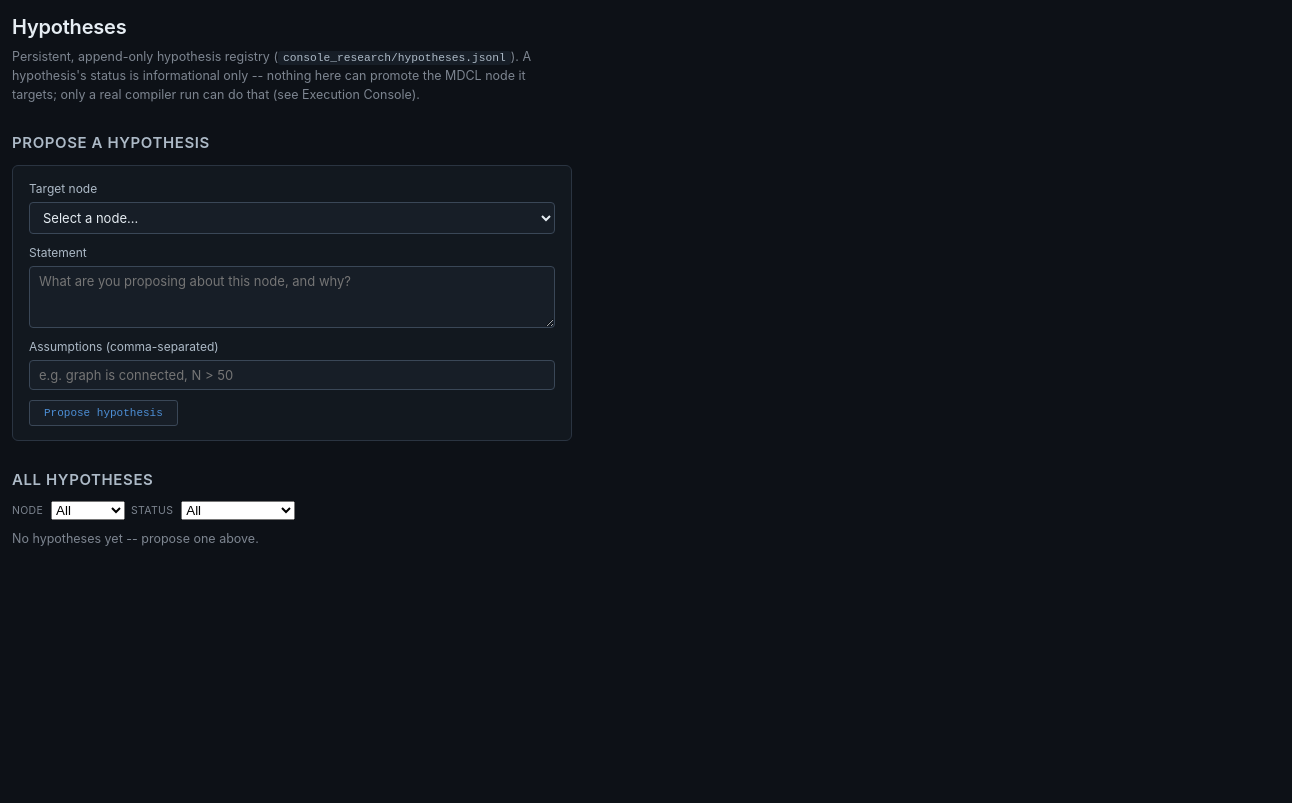
Scenario: Hypotheses screen › surfaces a possible-duplicate warning for a repeated statement on the same node
Select "NODE-A (OPEN)" in the dropdown labelled "Target node" at (292, 218), box [29,202,555,234]
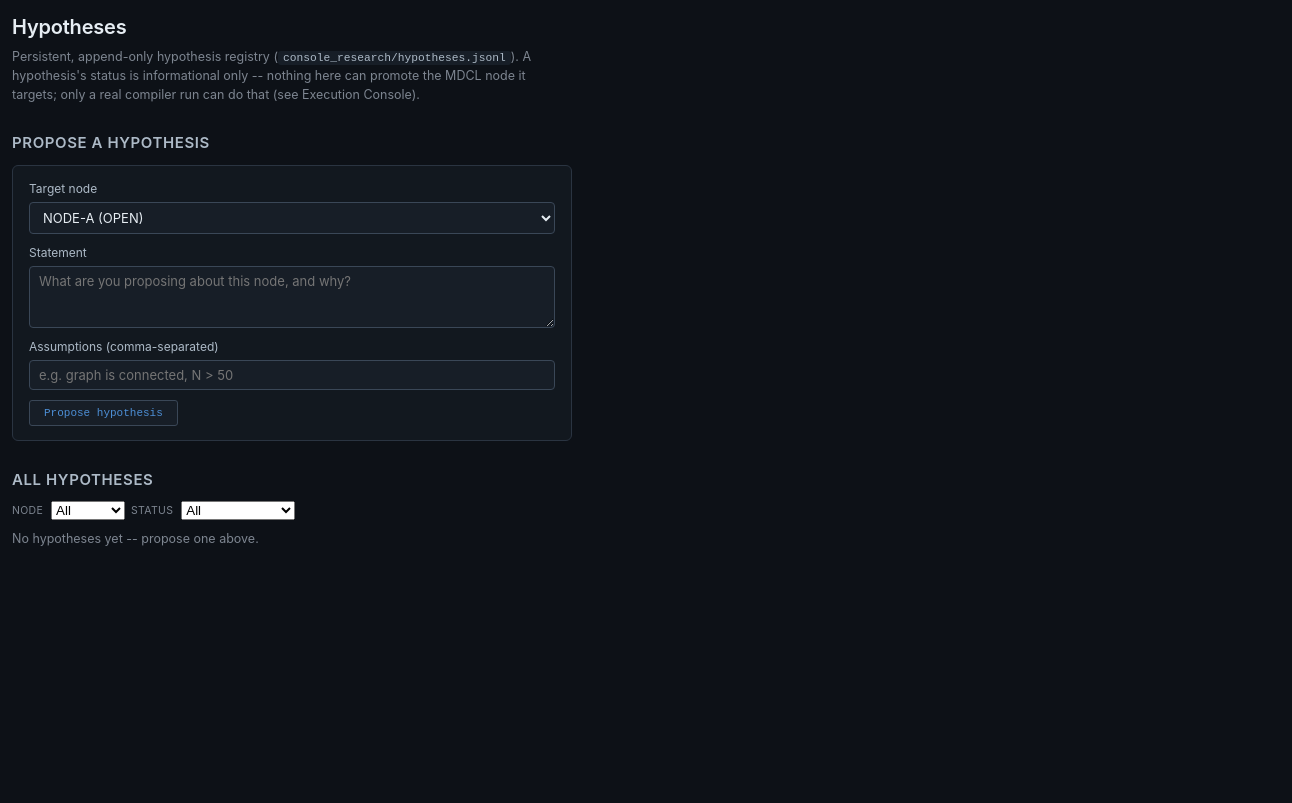
Type "the exact same statement" into the text box labelled "Statement" at (292, 297), box [29,266,555,328]
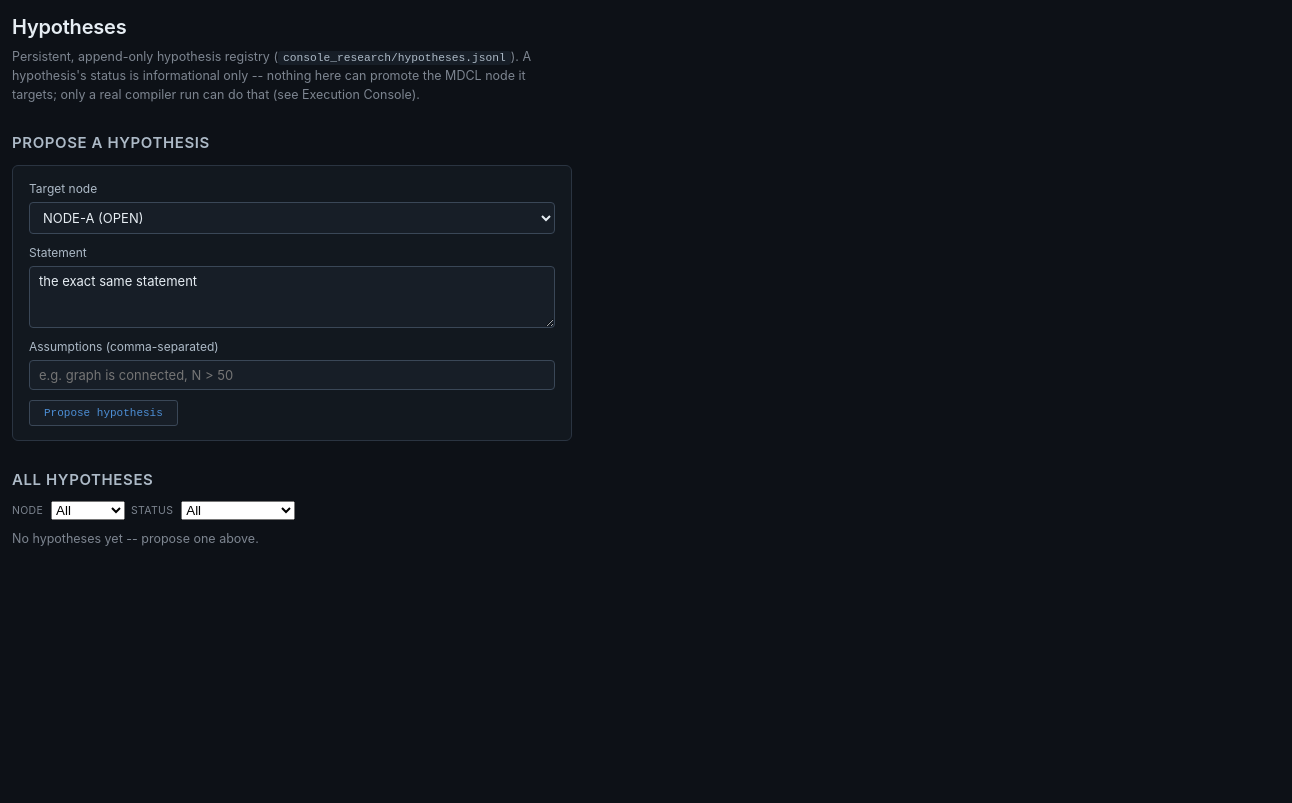
Click the button "Propose hypothesis" at (103, 413), box [29,400,178,426]
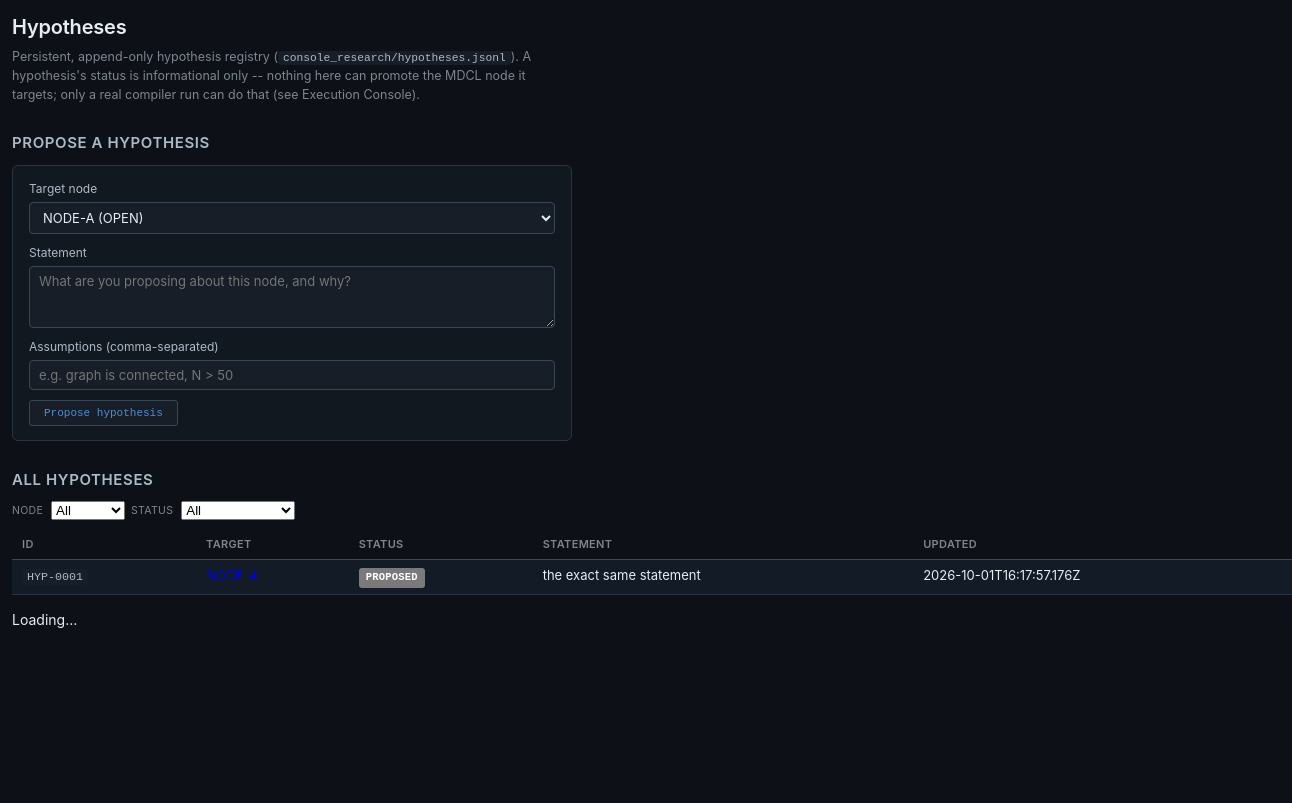
Check: the text box labelled "Statement" is empty, box [29,266,555,328]
Select "NODE-A (OPEN)" in the dropdown labelled "Target node" at (292, 218), box [29,202,555,234]
Type "the exact same statement" into the text box labelled "Statement" at (292, 297), box [29,266,555,328]
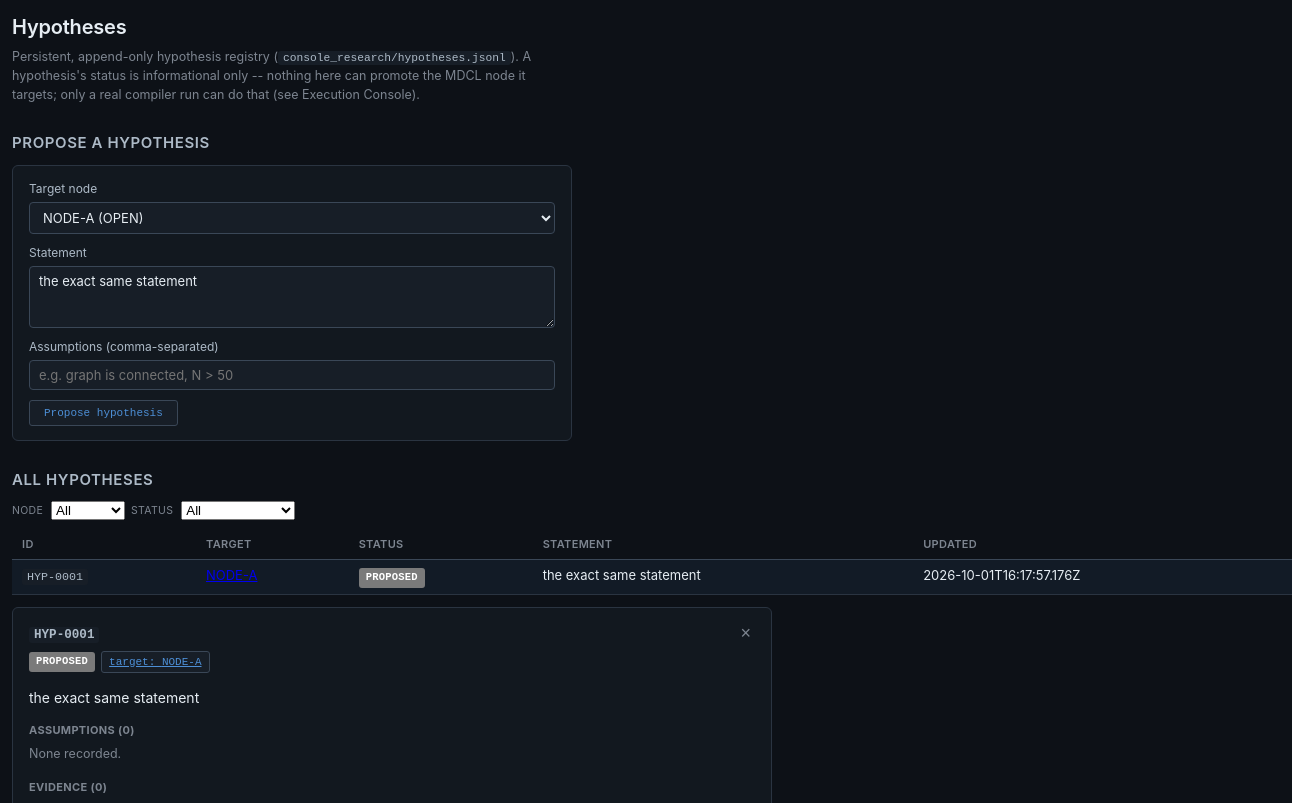
Click the button "Propose hypothesis" at (103, 413), box [29,400,178,426]
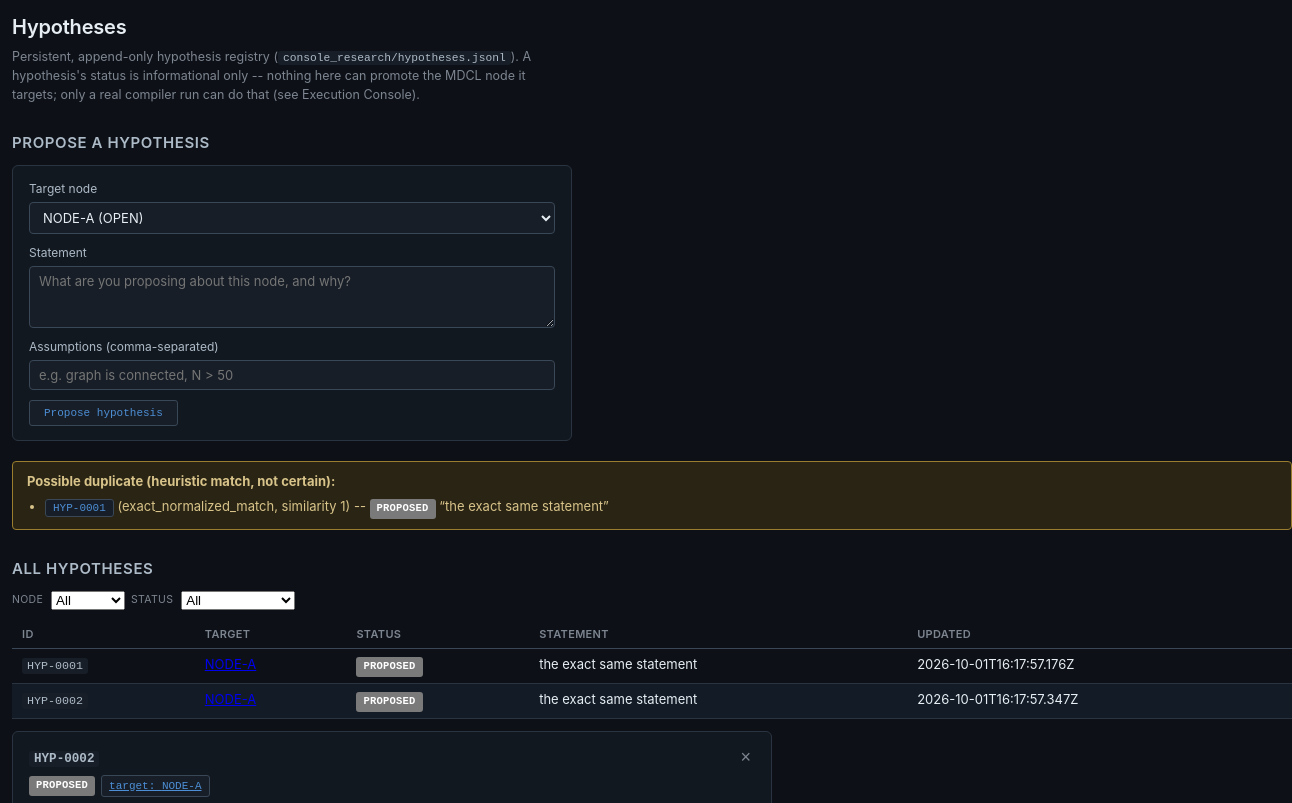
Check: the text box labelled "Statement" is empty, box [29,266,555,328]
Check: the text "Possible duplicate (heuristic match, not certain):" is shown, box [27,473,335,489]
